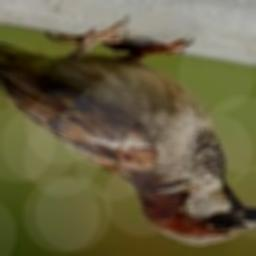Sparrow: (0, 16, 256, 246)
